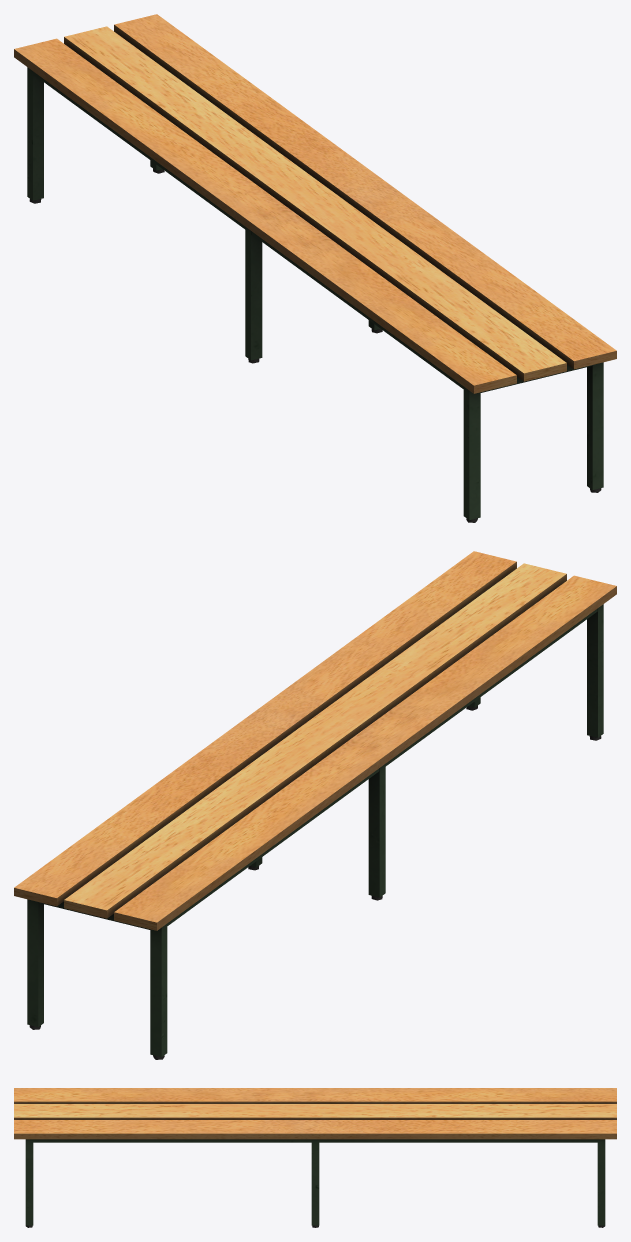
File: BenchLocker 220p.fbx
3 renders of one model, top to bottom at view 1: azimuth 30°, elevation 25°; view 2: azimuth 150°, elevation 25°; view 3: azimuth 270°, elevation 25°, orthographic. The views are drawn at different scales.
Visible parts, largest first — view 1: BenchLocker; view 2: BenchLocker; view 3: BenchLocker.
Part boxes in pixels (x1,y1,x2,y2): BenchLocker: [14, 14, 616, 522]; BenchLocker: [14, 551, 616, 1059]; BenchLocker: [14, 1088, 616, 1227].
Bounding box in the file's own units: 44.9 × 43.81 × 250.
